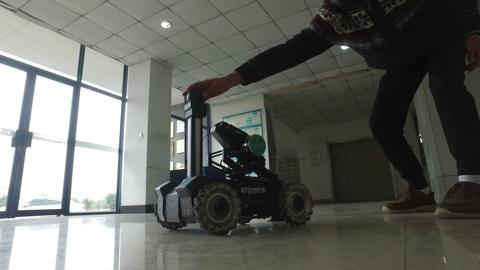chariot: (143, 78, 329, 232)
